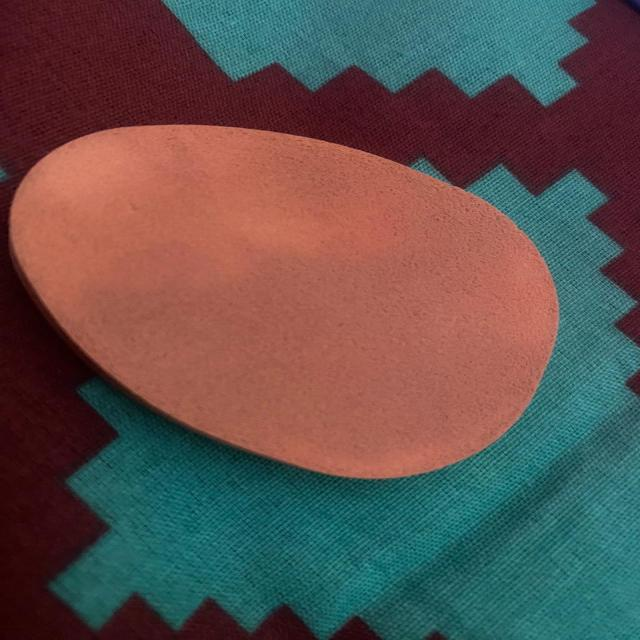beauty blender: (0, 94, 568, 502)
